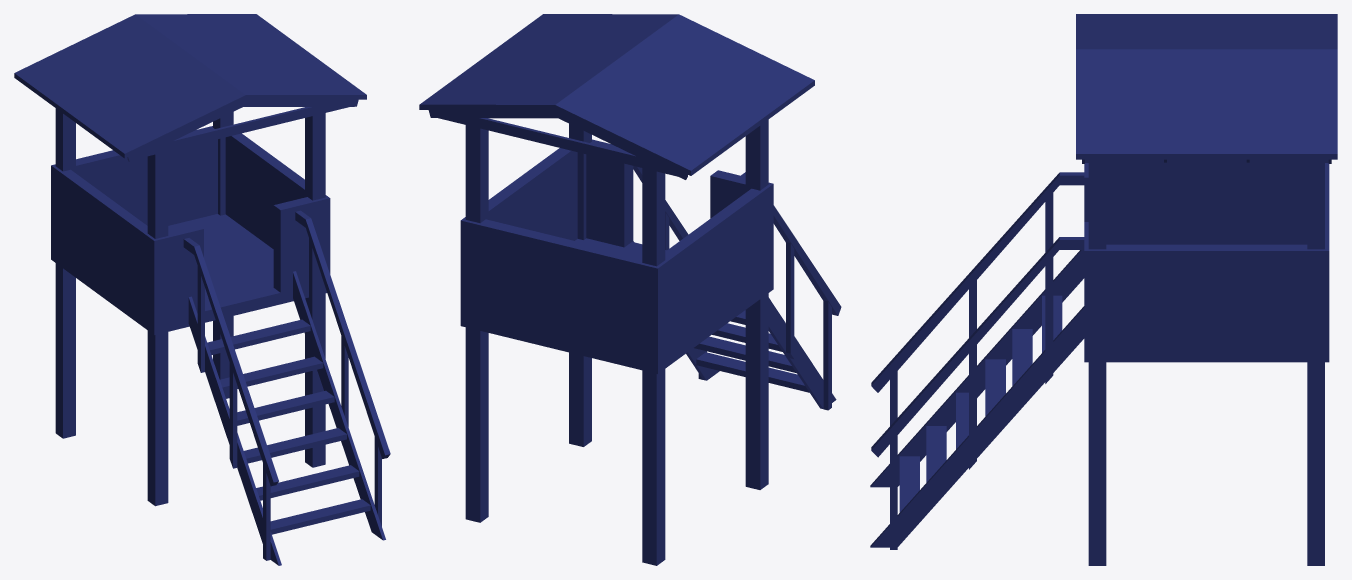
Rendered from LP_Observation tower.fbx.
3 renders of one model, left to right at view 1: azimuth 30°, elevation 25°; view 2: azimuth 150°, elevation 25°; view 3: azimuth 270°, elevation 25°, orthographic. The views are drawn at different scales.
Parts seen in each view (by area): view 1: LP_Observation tower; view 2: LP_Observation tower; view 3: LP_Observation tower.
Boxes of the visible parts, left/top/right/bottom form: LP_Observation tower: left=14, top=14, right=390, bottom=565; LP_Observation tower: left=419, top=14, right=841, bottom=565; LP_Observation tower: left=870, top=14, right=1337, bottom=565.
Bounding box in the file's own units: 2.8 × 4.36 × 3.95.
